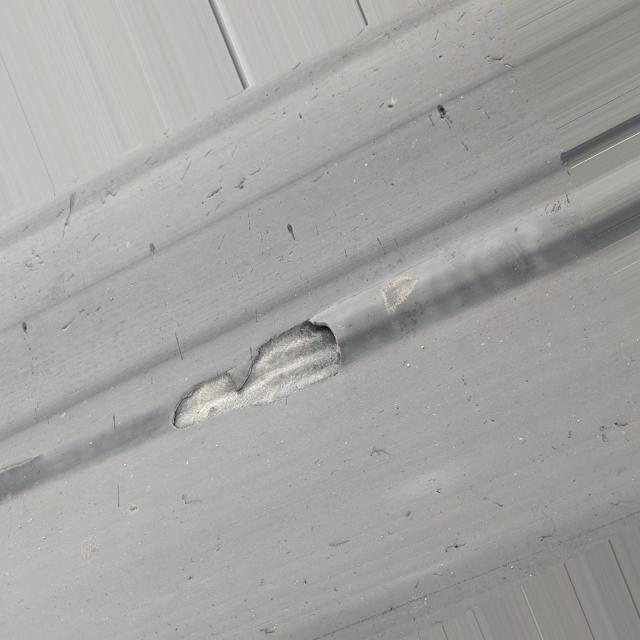Impact Damage: (155, 306, 349, 439)
Puncture: (424, 97, 456, 124), (11, 313, 36, 338)
